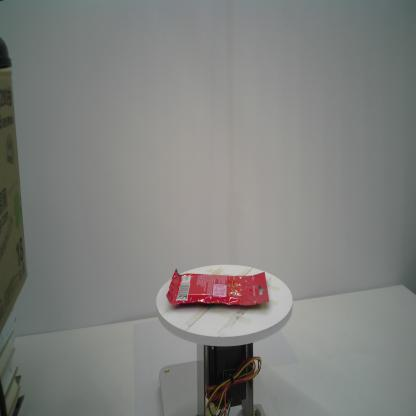Candy: (166, 268, 270, 306)
